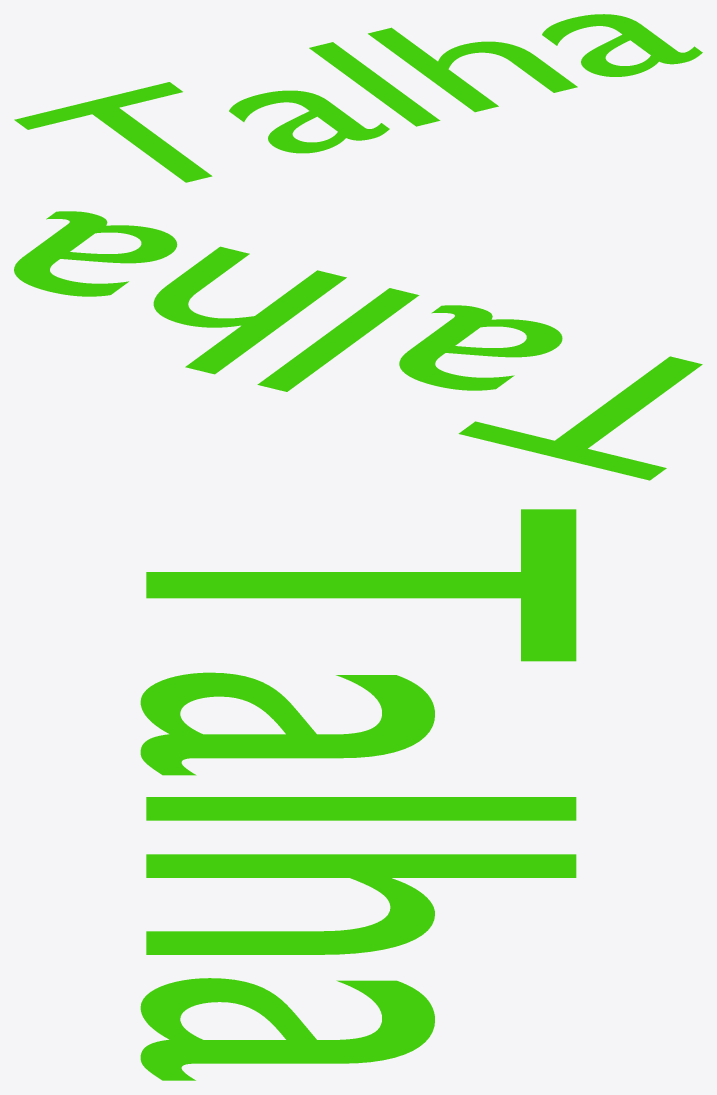
Rendered from Talha.glb.
3 views of the same model, one above another, from view 1: azimuth 30°, elevation 25°; view 2: azimuth 150°, elevation 25°; view 3: azimuth 270°, elevation 25° (orthographic). The views are drawn at different scales.
Parts seen in each view (by area): view 1: Text; view 2: Text; view 3: Text.
Part boxes in pixels (<box>): Text: <box>14,14,702,182</box>; Text: <box>14,211,702,480</box>; Text: <box>140,509,576,1080</box>.
Bounding box in the file's own units: 2.14 × 0 × 0.691.
